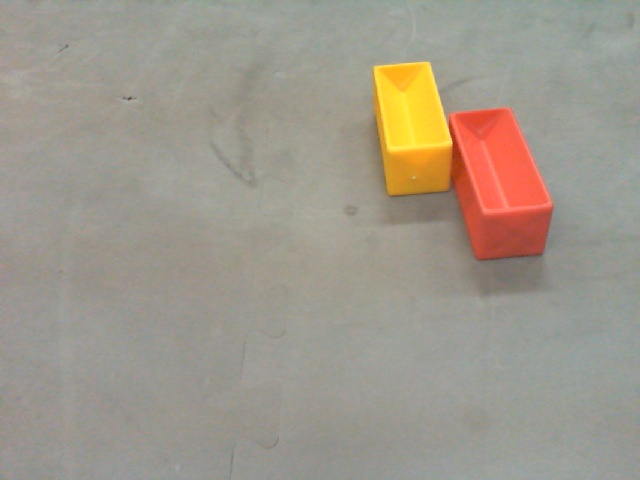RedSample: (447, 107, 557, 263)
YellowSample: (376, 63, 452, 196)
